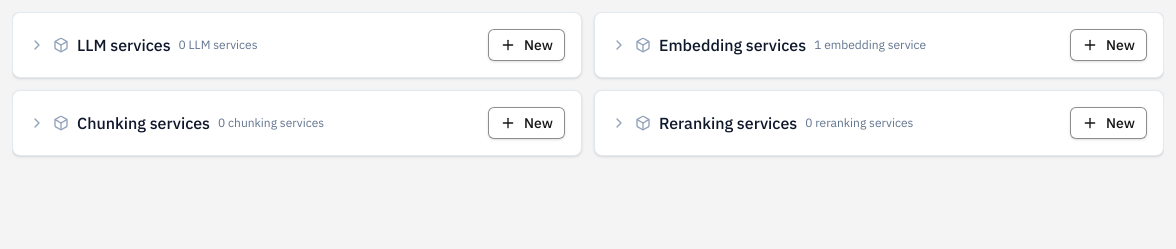
ServicesPanel › expands a subpanel and renders the underlying rows when its header is clicked
The image size is (1176, 249).
Expected: the text "OpenAI default" is not shown
Click the button named "Embedding services".
click(879, 45)  # box [595,13,1163,77]
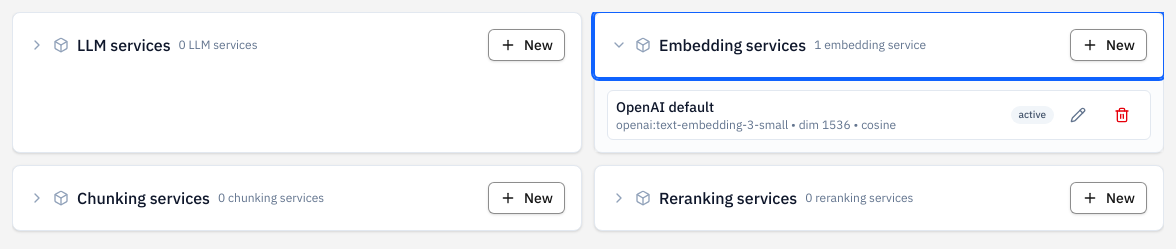
Expected: the text "OpenAI default" is shown, [616,98,714,116]
Expected: the text "openai:text-embedding-3-small • dim 1536 • cosine" is shown, [616,117,896,132]
